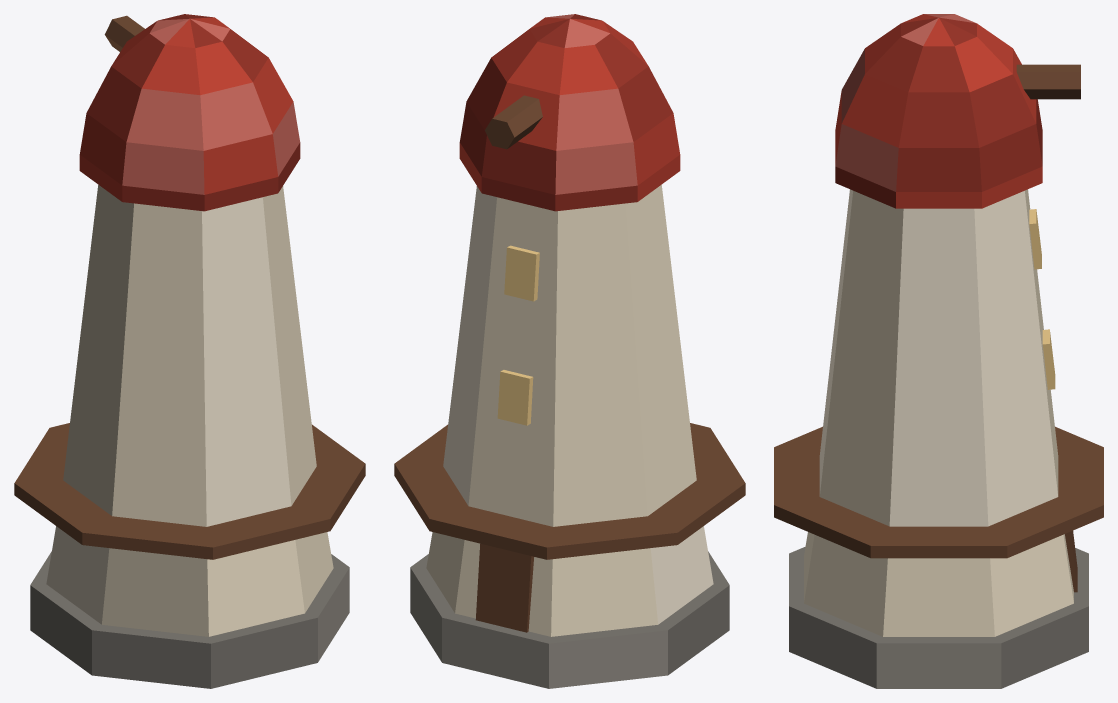
The model's file is SM_Windmill_Base.fbx.
The picture shows the model from 3 angles, left to right: view 1: azimuth 30°, elevation 25°; view 2: azimuth 150°, elevation 25°; view 3: azimuth 270°, elevation 25°; orthographic projection.
Visible parts, largest first — view 1: SM_Windmill_Base; view 2: SM_Windmill_Base; view 3: SM_Windmill_Base.
Boxes of the visible parts, x1,y1,x2,y2 form: SM_Windmill_Base: (14,14,365,688); SM_Windmill_Base: (394,14,745,688); SM_Windmill_Base: (774,14,1103,688).
Size of the model in its own units: 7.21 by 14.65 by 7.21.
